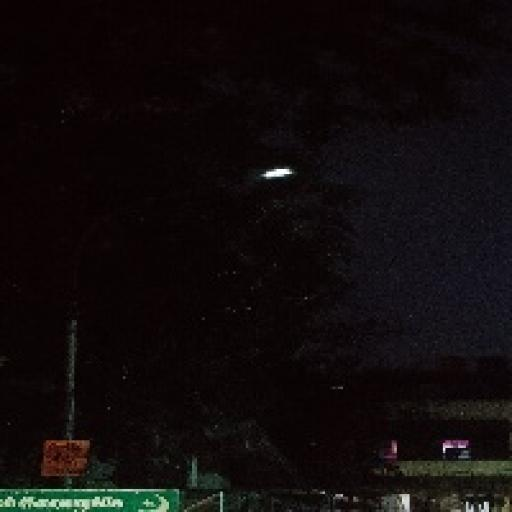Working: (242, 160, 300, 193)
